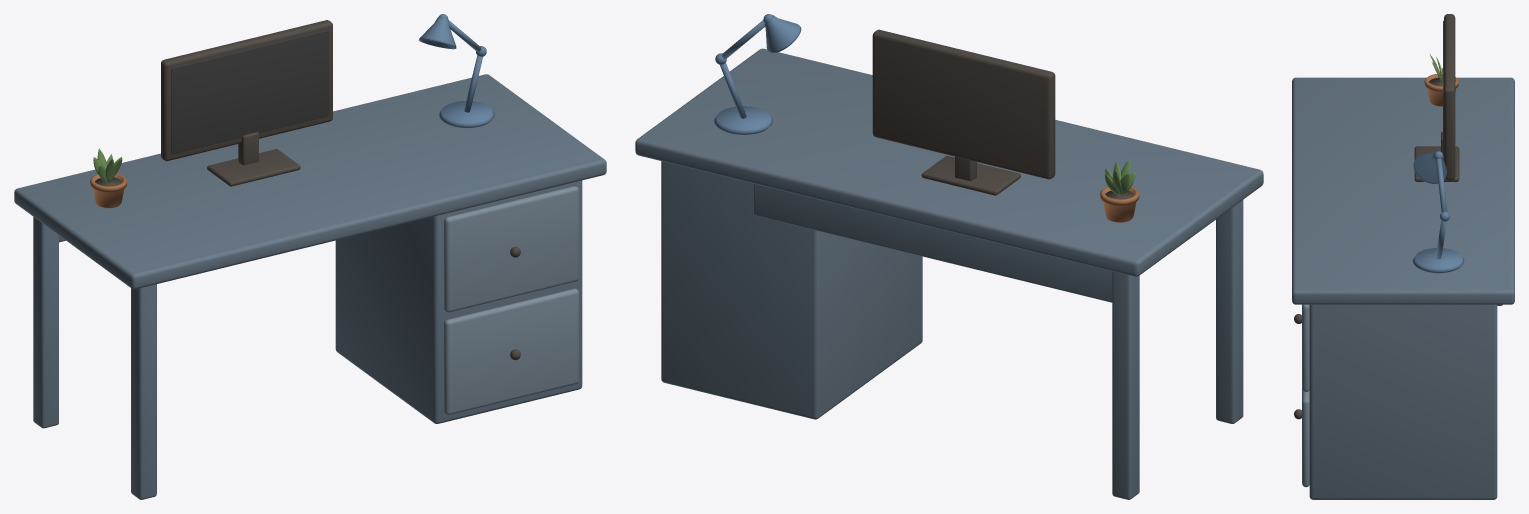
File: desk.glb
3 views of the same model, side by side, from view 1: azimuth 30°, elevation 25°; view 2: azimuth 150°, elevation 25°; view 3: azimuth 270°, elevation 25° (orthographic). The views are drawn at different scales.
Visible parts, largest first — view 1: desktop, drawer_cabinet, monitor_screen, drawer_front_0.185, drawer_front_0.515, left_leg_0.285, left_leg_-0.285, monitor_frame, monitor_base, lamp_base, desk_pot, lamp_shade; view 2: desktop, drawer_cabinet, monitor_frame, rear_apron, left_leg_-0.285, left_leg_0.285, monitor_base, lamp_base, lamp_shade, desk_pot; view 3: desktop, drawer_cabinet, monitor_frame, lamp_base, drawer_front_0.185, drawer_front_0.515, lamp_shade, monitor_base, desk_pot, lamp_upper_arm.
Part boxes in pixels (x1,y1,x2,y2): desktop: [14, 74, 606, 289]; drawer_cabinet: [335, 180, 582, 423]; monitor_screen: [171, 30, 329, 154]; drawer_front_0.185: [444, 288, 578, 414]; drawer_front_0.515: [444, 186, 578, 312]; left_leg_0.285: [131, 284, 156, 499]; left_leg_-0.285: [33, 217, 58, 428]; monitor_frame: [161, 20, 332, 161]; monitor_base: [207, 149, 300, 186]; lamp_base: [439, 101, 494, 128]; desk_pot: [90, 173, 126, 208]; lamp_shade: [419, 17, 456, 49]; desktop: [635, 48, 1263, 276]; drawer_cabinet: [661, 161, 922, 419]; monitor_frame: [872, 29, 1055, 179]; rear_apron: [753, 184, 1112, 302]; left_leg_-0.285: [1112, 271, 1139, 499]; left_leg_0.285: [1216, 200, 1243, 423]; monitor_base: [921, 156, 1020, 195]; lamp_base: [714, 106, 772, 134]; lamp_shade: [764, 15, 801, 53]; desk_pot: [1100, 186, 1139, 222]; desktop: [1292, 77, 1514, 304]; drawer_cabinet: [1309, 304, 1497, 499]; monitor_frame: [1444, 14, 1455, 180]; lamp_base: [1412, 248, 1464, 273]; drawer_front_0.185: [1302, 388, 1309, 487]; drawer_front_0.515: [1302, 304, 1309, 391]; lamp_shade: [1413, 151, 1446, 183]; monitor_base: [1414, 146, 1459, 181]; desk_pot: [1424, 74, 1458, 106]; lamp_upper_arm: [1436, 158, 1447, 212].
Size of the model in its own units: 1.6 by 1.15 by 0.7.
